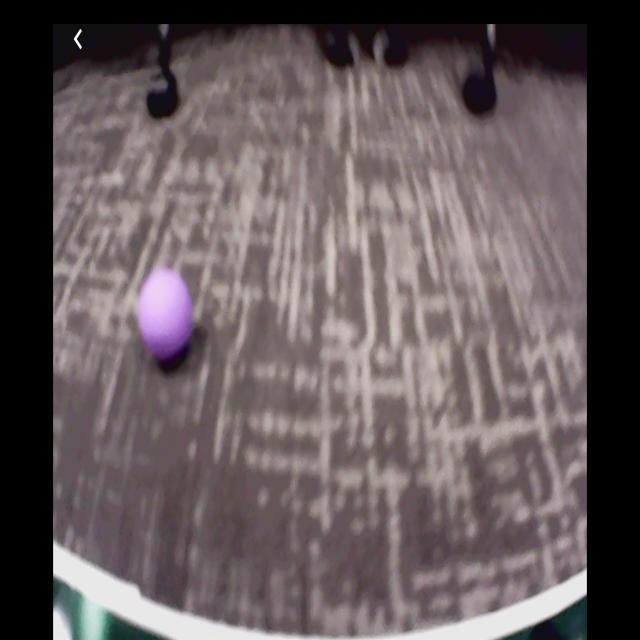ball: (139, 268, 194, 364)
